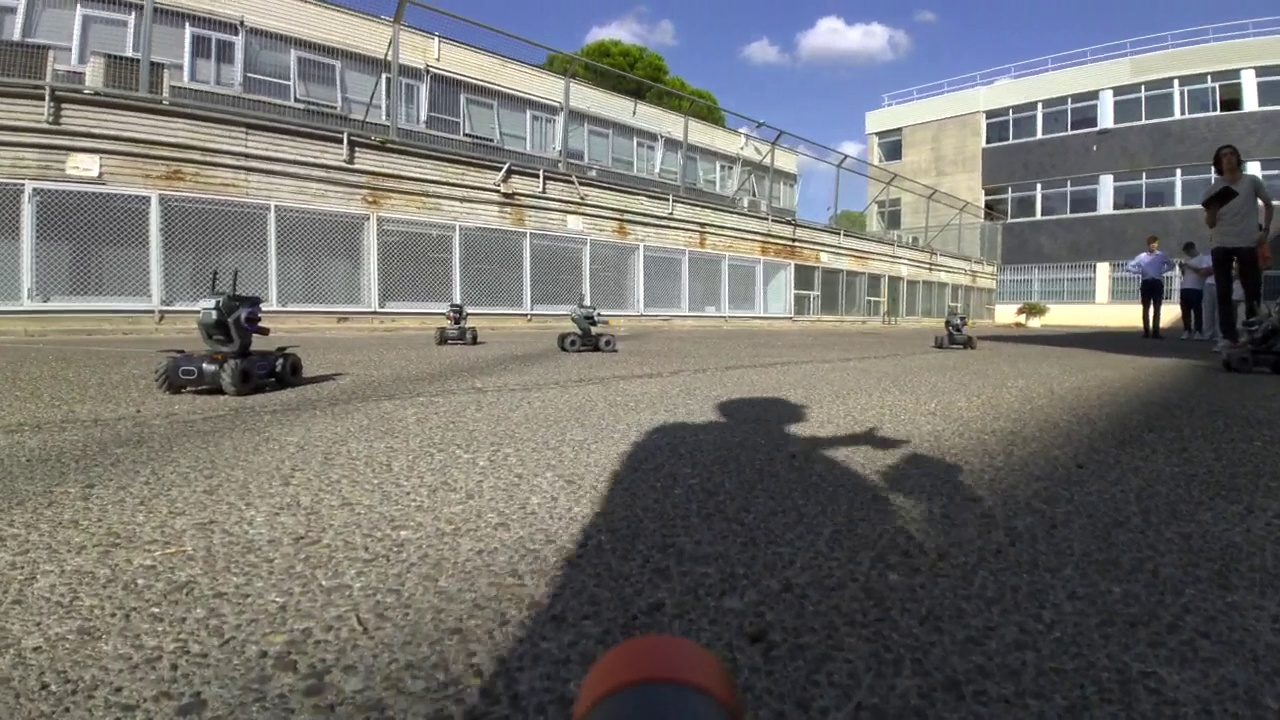robot: (152, 263, 302, 395), (553, 295, 615, 355), (433, 296, 480, 349), (935, 309, 978, 352)
